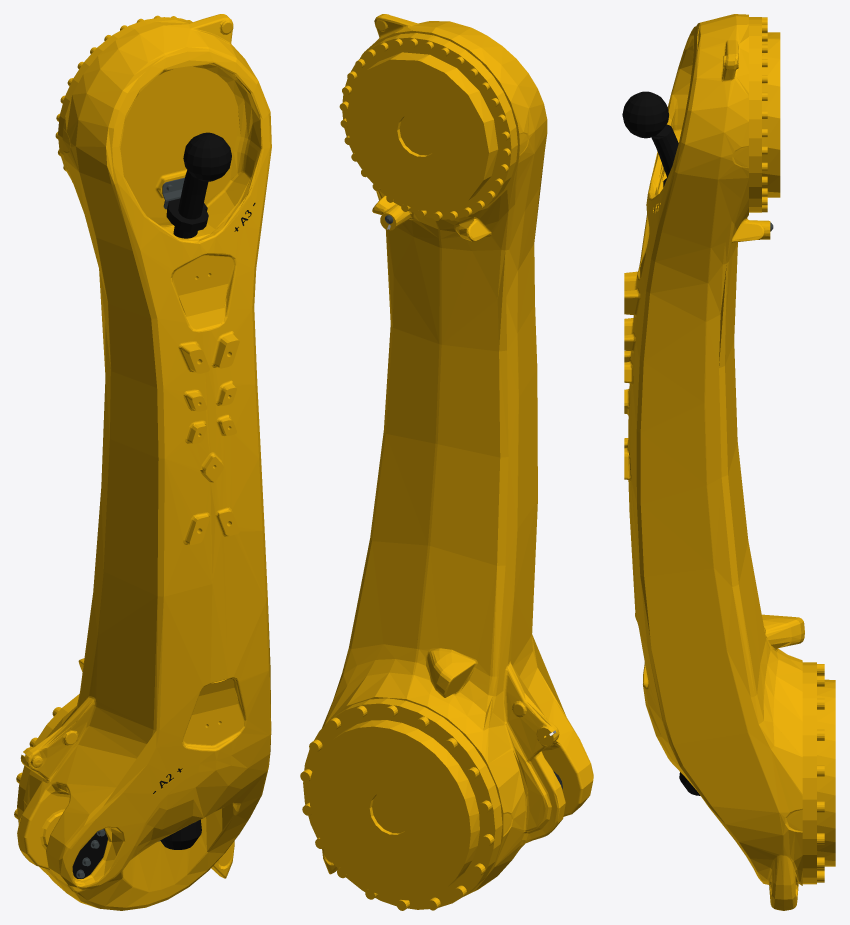
The picture shows the model from 3 angles, left to right: view 1: azimuth 30°, elevation 25°; view 2: azimuth 150°, elevation 25°; view 3: azimuth 270°, elevation 25°; orthographic projection. The views are drawn at different scales.
Parts seen in each view (by area): view 1: link_2; view 2: link_2; view 3: link_2.
Boxes of the visible parts, bbox=[...] form: link_2: bbox=[14, 14, 271, 910]; link_2: bbox=[300, 14, 593, 910]; link_2: bbox=[622, 14, 835, 910].
Bounding box in the file's own units: 0.5613 × 0.455 × 2.01.
